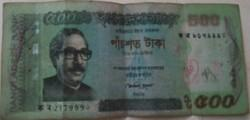500 taka: (6, 8, 247, 111)
